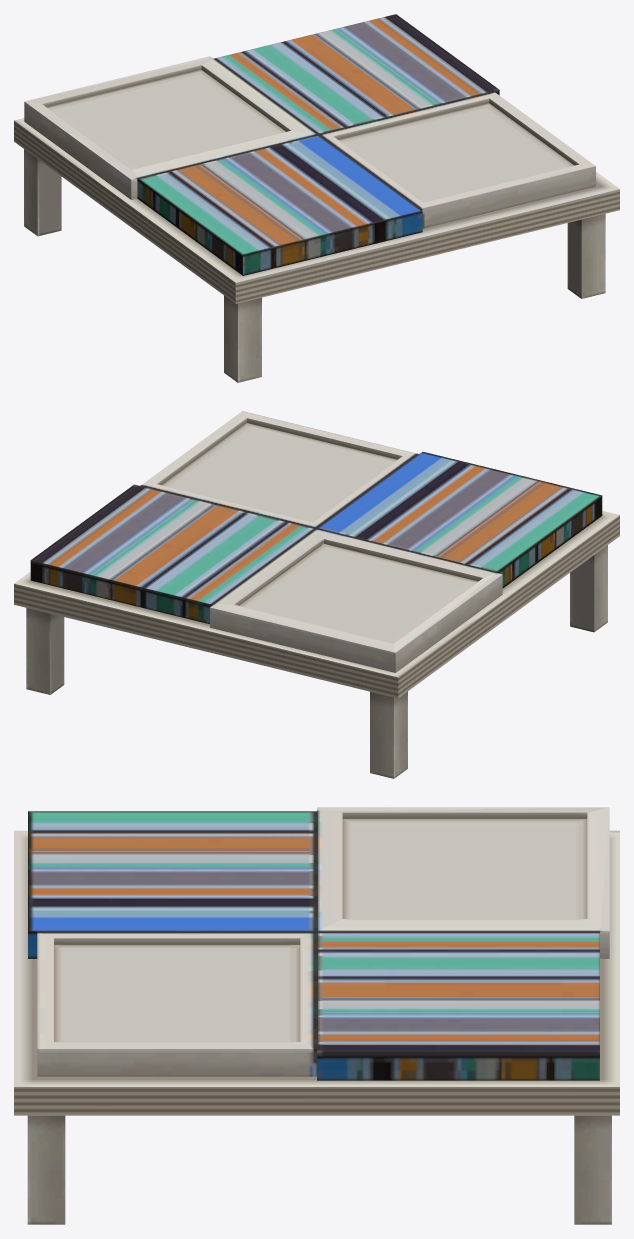
The model's file is furni_0200605_03.FBX.
3 views of the same model, one above another, from view 1: azimuth 30°, elevation 25°; view 2: azimuth 150°, elevation 25°; view 3: azimuth 270°, elevation 25° (orthographic). The views are drawn at different scales.
Parts seen in each view (by area): view 1: furni_0200605_03; view 2: furni_0200605_03; view 3: furni_0200605_03.
Boxes of the visible parts, left/top/right/bottom form: furni_0200605_03: left=14, top=14, right=619, bottom=382; furni_0200605_03: left=14, top=411, right=619, bottom=778; furni_0200605_03: left=14, top=807, right=619, bottom=1224.
Size of the model in its own units: 160 by 50.36 by 160.
Materials: 1 (1 with a texture image).
